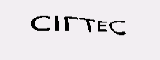І: (52, 15, 61, 32)
Г: (63, 15, 78, 32)
Е: (97, 19, 108, 33)
С: (30, 15, 52, 32), (109, 18, 125, 36)
Т: (78, 16, 96, 33)
